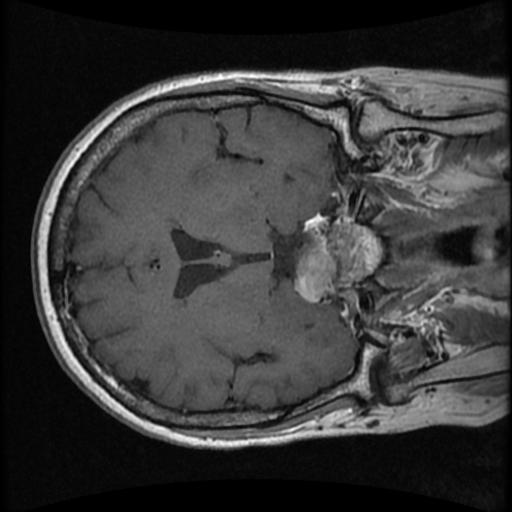pituitary tumour: (294, 214, 333, 299)
